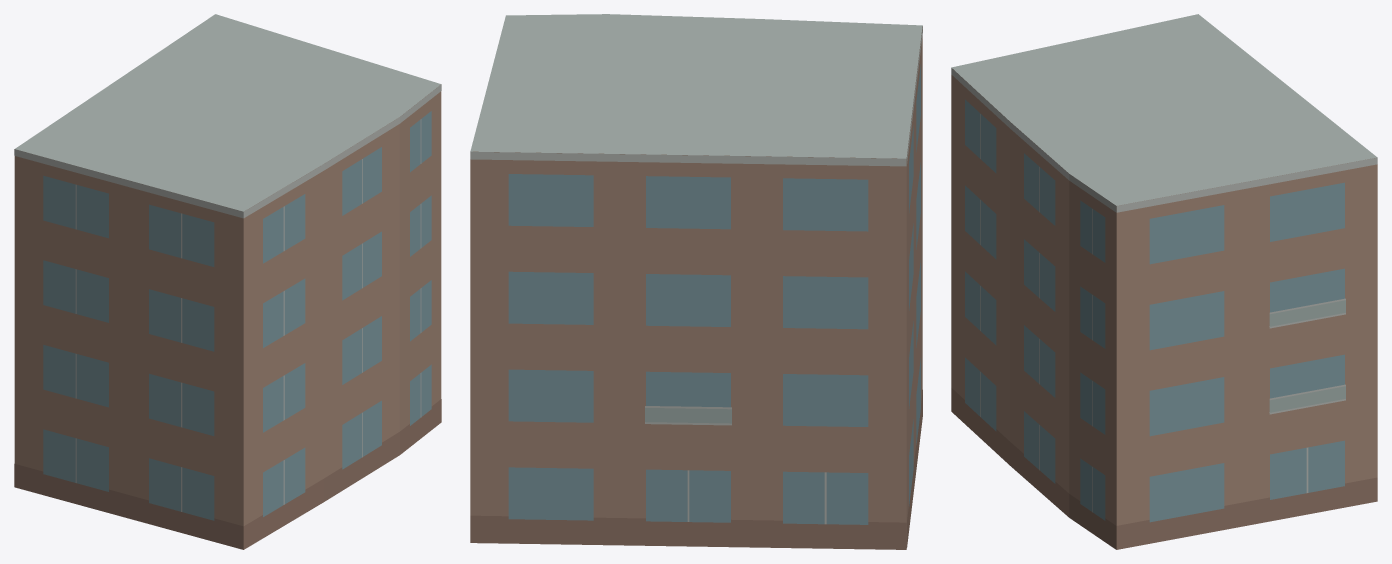
Rendered from survey-upis-32726823.glb.
The picture shows the model from 3 angles, left to right: view 1: azimuth 30°, elevation 25°; view 2: azimuth 150°, elevation 25°; view 3: azimuth 270°, elevation 25°; orthographic projection. The views are drawn at different scales.
Visible parts, largest first — view 1: survey-upis-32726823.tmp; view 2: survey-upis-32726823.tmp; view 3: survey-upis-32726823.tmp.
Boxes of the visible parts, x1,y1,x2,y2 form: survey-upis-32726823.tmp: (14, 14, 441, 549); survey-upis-32726823.tmp: (470, 14, 922, 549); survey-upis-32726823.tmp: (951, 14, 1377, 549).
Bounding box in the file's own units: 14.61 × 12.2 × 13.71.
